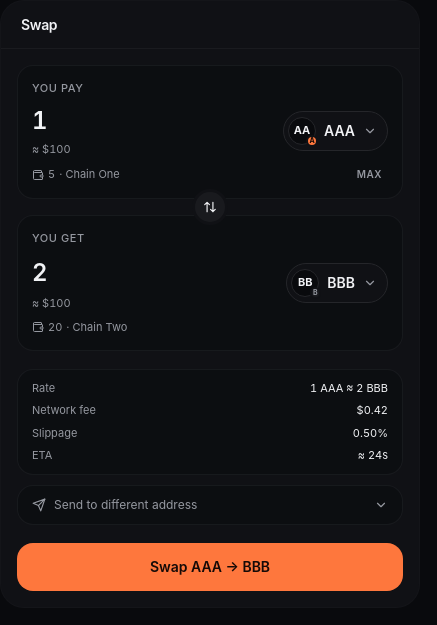
it: SwapPanel › refuses amounts above the balance and fills the balance with Max
The image size is (437, 625).
Replace the text in the field labelled "You pay" with "9": (152, 120) [32, 104, 271, 136]
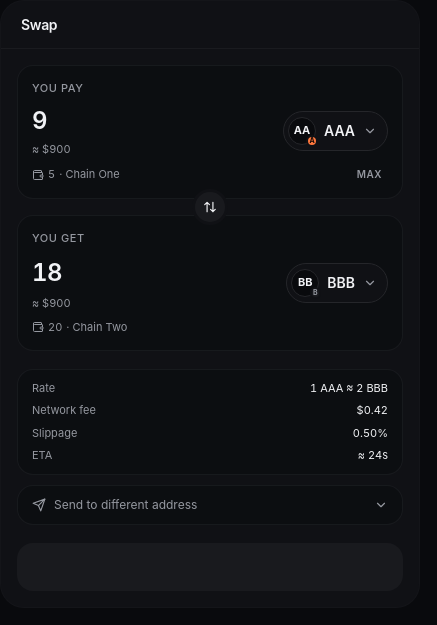
Click the button "Max": (369, 174) [351, 165, 388, 184]
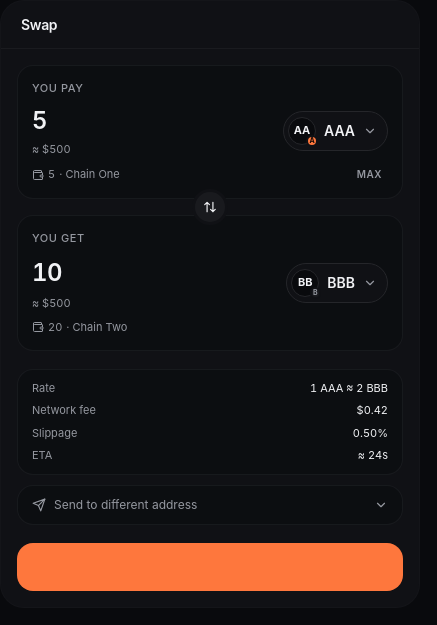
Expected: the field labelled "You pay" holds "5"
Expected: the button named "Swap AAA → BBB" is enabled, [17, 542, 403, 590]
Clear the field labelled "You pay": (152, 120) [32, 104, 271, 136]
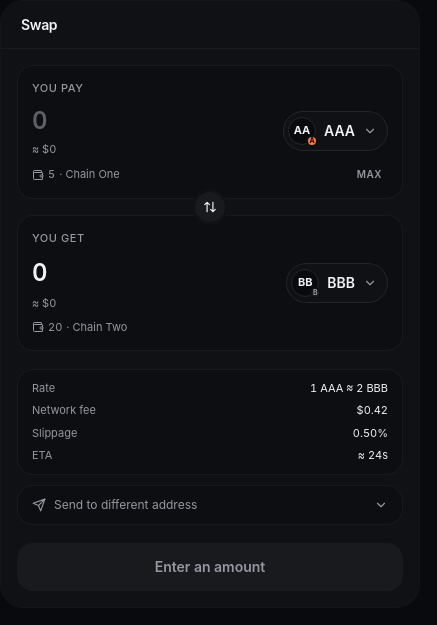
Expected: the button "Enter an amount" is disabled, [17, 542, 403, 590]
